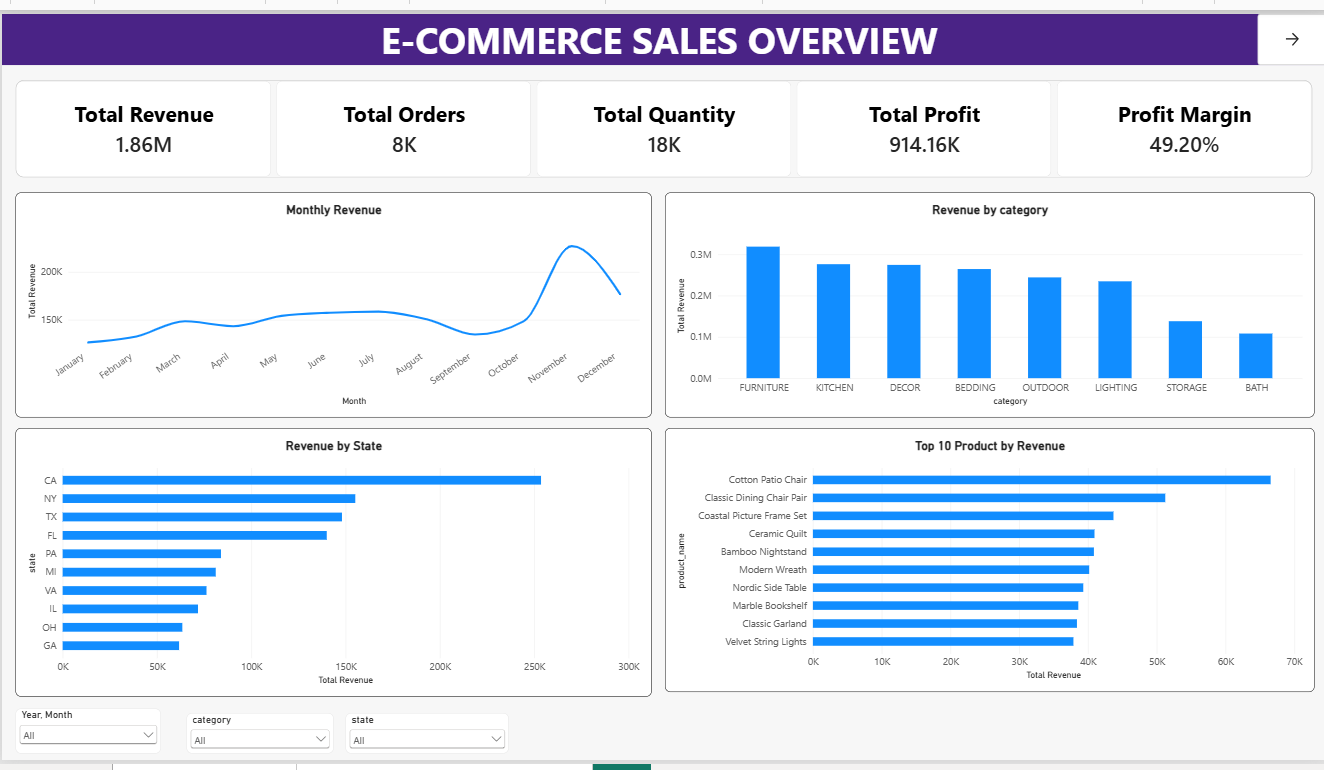

Layout of this report page (visuals, bound fields, positions):
{"tool":"powerbi","page":{"name":"Sales Overview","canvas":[1920,1080],"ordinal":0},"visuals":[{"type":"cardVisual","fields":{"Data":["Table.Total Revenue","Table.Total Orders","Table.Total Quantity","Table.Total Profit","Table.Profit Margin"]},"box":[19.6,95.7,1882.6,141.3],"z":0},{"type":"lineChart","title":"Monthly Revenue","fields":{"Category":["ecommerce_analytics sales_detail.order_date.Variation.Date Hierarchy.Month"],"Y":["Table.Total Revenue"]},"box":[19.6,258.7,921.7,326.1],"z":1000},{"type":"clusteredColumnChart","title":"Revenue by category","fields":{"Category":["ecommerce_analytics sales_detail.category"],"Y":["Table.Total Revenue"]},"box":[960.9,258.7,941.3,326.1],"z":2000},{"type":"barChart","title":"Revenue by State","fields":{"Category":["ecommerce_analytics sales_detail.state"],"Y":["Table.Total Revenue"]},"box":[19.6,600,921.7,389.1],"z":3000},{"type":"clusteredBarChart","title":"Top 10 Product by Revenue","fields":{"Category":["ecommerce_analytics sales_detail.product_name"],"Y":["Table.Total Revenue"]},"box":[960.9,600,941.3,382.6],"z":4000},{"type":"slicer","title":"Date","fields":{"Values":["ecommerce_analytics sales_detail.order_date.Variation.Date Hierarchy.Year","ecommerce_analytics sales_detail.order_date.Variation.Date Hierarchy.Month"]},"box":[19.6,1006.5,210.9,65.2],"z":5000},{"type":"slicer","fields":{"Values":["ecommerce_analytics sales_detail.category"]},"box":[267.4,1013,213,58.7],"z":6000},{"type":"slicer","fields":{"Values":["ecommerce_analytics sales_detail.state"]},"box":[497.8,1013,237,58.7],"z":7000},{"type":"textbox","box":[0,0,1919.6,73.9],"z":8000},{"type":"actionButton","box":[1819.6,0,100,73.9],"z":9000}]}

Visuals, with their boxes on the page's 1920x1080 design canvas (x1, y1, x2, y2). These are canvas units, not pixel positions in the 1324x770 screenshot, which may show the page scaled, cropped or inside an application window:
cardVisual - Table.Total Revenue x Table.Total Orders: bbox=[20, 96, 1902, 237]
"Monthly Revenue" lineChart: bbox=[20, 259, 941, 585]
"Revenue by category" clusteredColumnChart: bbox=[961, 259, 1902, 585]
"Revenue by State" barChart: bbox=[20, 600, 941, 989]
"Top 10 Product by Revenue" clusteredBarChart: bbox=[961, 600, 1902, 983]
"Date" slicer: bbox=[20, 1006, 230, 1072]
slicer - ecommerce_analytics sales_detail.category: bbox=[267, 1013, 480, 1072]
slicer - ecommerce_analytics sales_detail.state: bbox=[498, 1013, 735, 1072]
textbox: bbox=[0, 0, 1920, 74]
actionButton: bbox=[1820, 0, 1920, 74]
